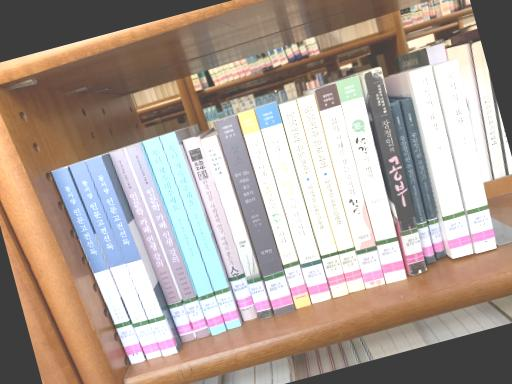book-spine: (51, 165, 145, 364), (85, 156, 177, 356), (69, 161, 161, 359), (142, 136, 226, 335), (109, 148, 195, 342), (126, 143, 210, 338), (214, 115, 295, 316), (159, 132, 241, 330), (255, 101, 331, 302), (335, 74, 407, 283), (237, 108, 311, 309), (315, 83, 385, 288), (181, 135, 257, 321), (278, 99, 349, 298), (296, 94, 365, 292), (361, 67, 426, 275), (201, 134, 273, 320), (409, 65, 474, 258), (435, 58, 496, 253), (389, 100, 435, 263), (400, 96, 446, 258)
